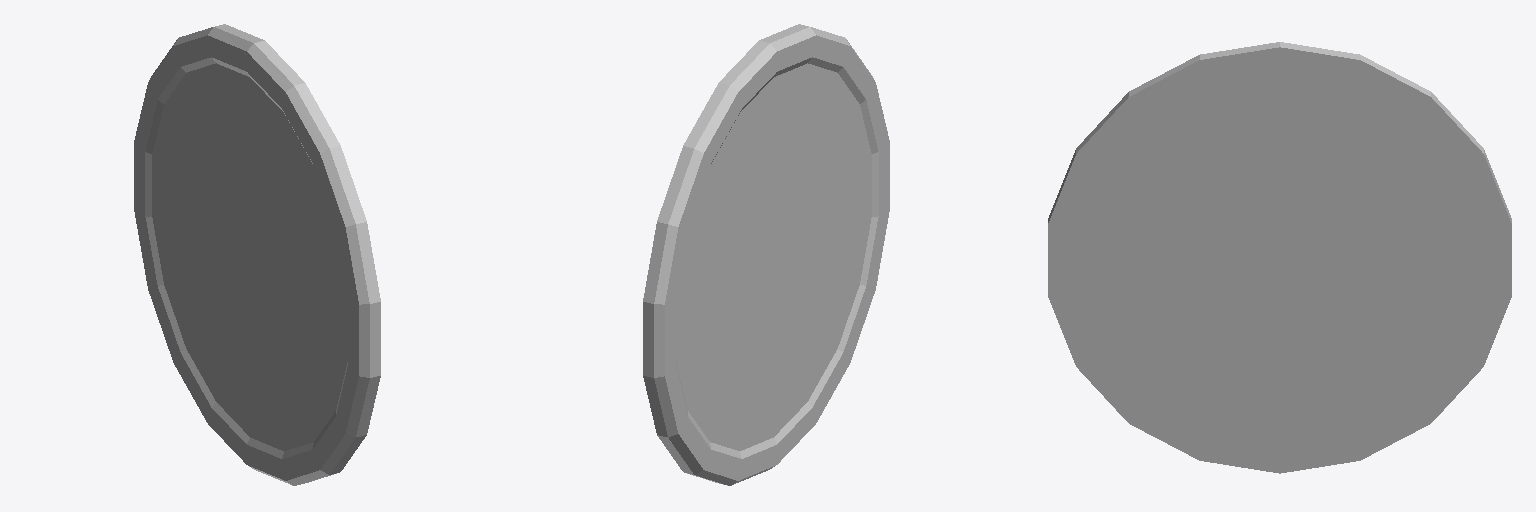
The model's file is coin.obj.
3 renders of one model, left to right at view 1: azimuth 30°, elevation 25°; view 2: azimuth 150°, elevation 25°; view 3: azimuth 270°, elevation 25°, orthographic.
Visible parts, largest first — view 1: Cylinder001; view 2: Cylinder001; view 3: Cylinder001.
Boxes of the visible parts, box(x1,y1,x2,y2) form: Cylinder001: box(134, 24, 380, 485); Cylinder001: box(643, 24, 889, 485); Cylinder001: box(1048, 42, 1511, 473).
Size of the model in its own units: 0.0233 by 0.5151 by 0.5073.